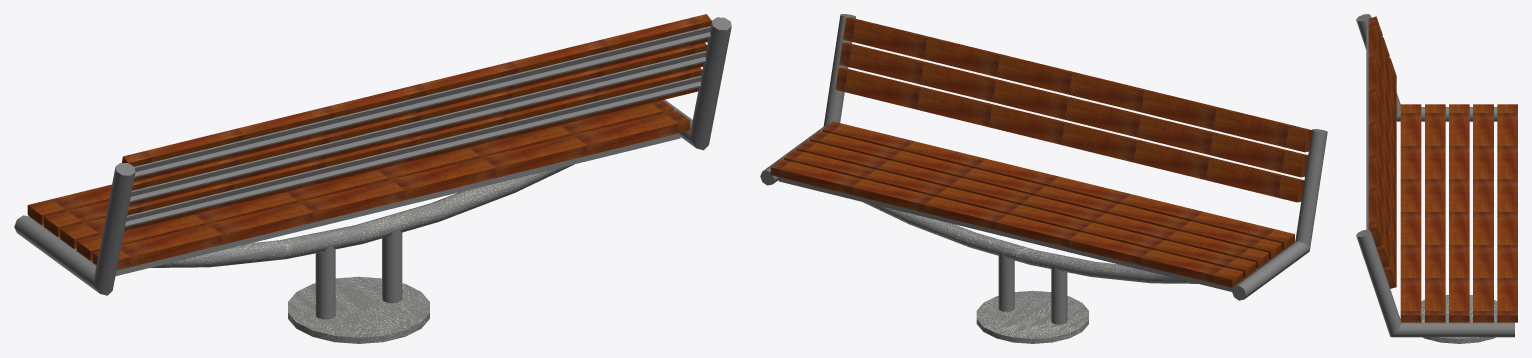
3 views of the same model, side by side, from view 1: azimuth 30°, elevation 25°; view 2: azimuth 150°, elevation 25°; view 3: azimuth 270°, elevation 25° (orthographic). The views are drawn at different scales.
Parts seen in each view (by area): view 1: mesh10_mesh10-geometry, mesh14_mesh14-geometry, mesh1_mesh1-geometry, mesh16_mesh16-geometry, mesh17_mesh17-geometry, mesh6_mesh6-geometry, mesh12_mesh12-geometry; view 2: mesh10_mesh10-geometry, mesh1_mesh1-geometry, mesh16_mesh16-geometry, mesh17_mesh17-geometry, mesh6_mesh6-geometry, mesh12_mesh12-geometry; view 3: mesh10_mesh10-geometry, mesh1_mesh1-geometry, mesh17_mesh17-geometry, mesh14_mesh14-geometry.
Part boxes in pixels (<box>): mesh10_mesh10-geometry: <box>27,14,711,270</box>; mesh14_mesh14-geometry: <box>125,26,710,227</box>; mesh1_mesh1-geometry: <box>14,17,731,295</box>; mesh16_mesh16-geometry: <box>74,164,574,267</box>; mesh17_mesh17-geometry: <box>288,276,429,343</box>; mesh6_mesh6-geometry: <box>42,133,680,275</box>; mesh12_mesh12-geometry: <box>315,229,402,319</box>; mesh10_mesh10-geometry: <box>770,17,1311,287</box>; mesh1_mesh1-geometry: <box>760,14,1327,300</box>; mesh16_mesh16-geometry: <box>863,202,1257,283</box>; mesh17_mesh17-geometry: <box>976,290,1088,343</box>; mesh6_mesh6-geometry: <box>778,177,1283,291</box>; mesh12_mesh12-geometry: <box>998,253,1067,324</box>; mesh10_mesh10-geometry: <box>1368,16,1517,322</box>; mesh1_mesh1-geometry: <box>1356,14,1514,337</box>; mesh17_mesh17-geometry: <box>1421,295,1497,343</box>; mesh14_mesh14-geometry: <box>1366,28,1368,229</box>.
Bounding box in the file's own units: 0.8873 × 0.3716 × 0.2733.
